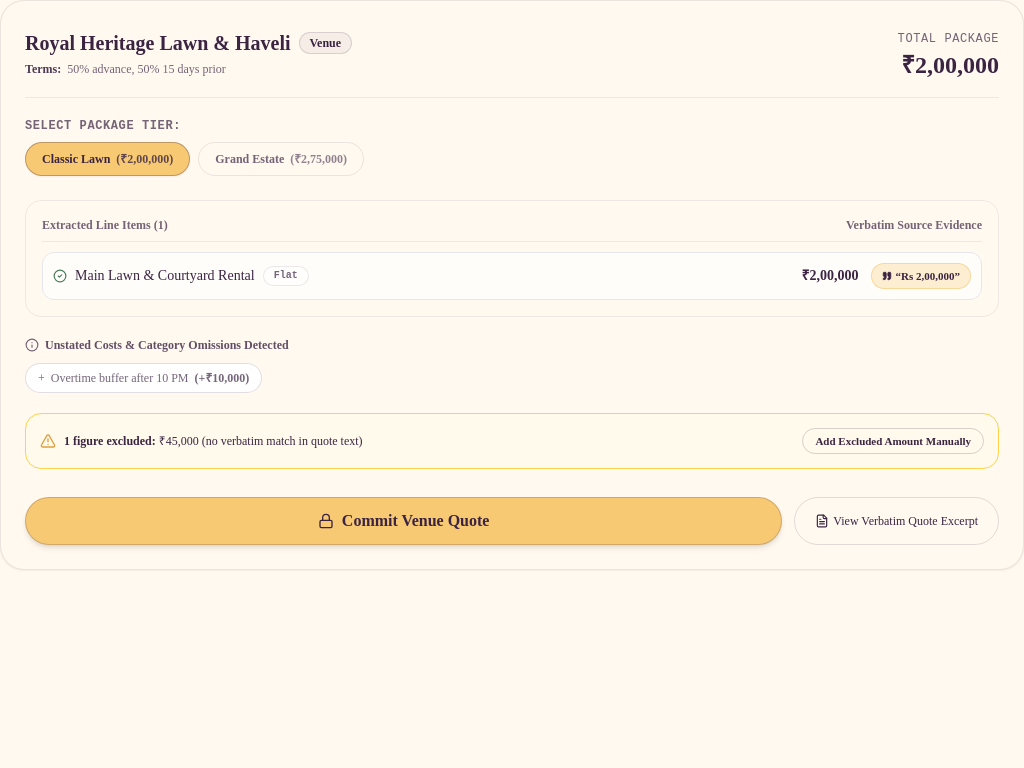
Test: QuoteCheckCard Component (QUOTE-05, QUOTE-06, D-07, D-08, D-09, D-10) › package tier tabs switch active tier and recalculate base paise in real time
Expected: the text "Main Lawn & Courtyard Rental" is shown, top-left (75, 266), bottom-right (255, 286)
Click Grand Estate tab
Click the tab "Grand Estate(₹2,75,000)" at (281, 159), box top-left (198, 142), bottom-right (364, 176)
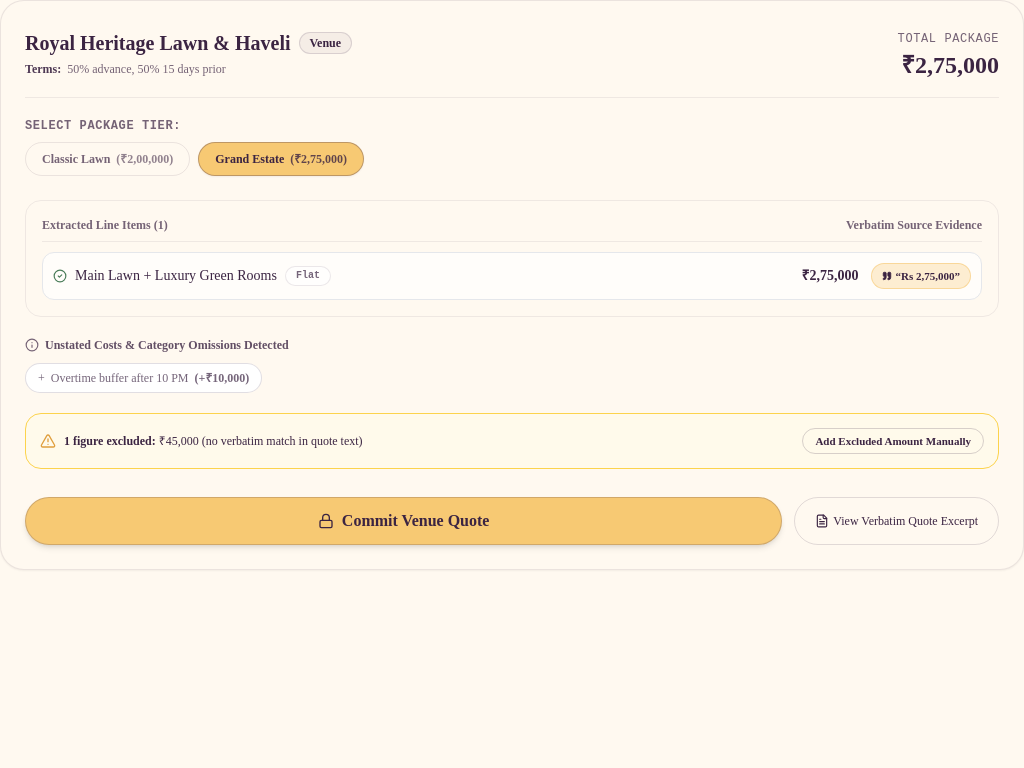
Expected: the text "Main Lawn + Luxury Green Rooms" is shown, top-left (75, 266), bottom-right (277, 286)
